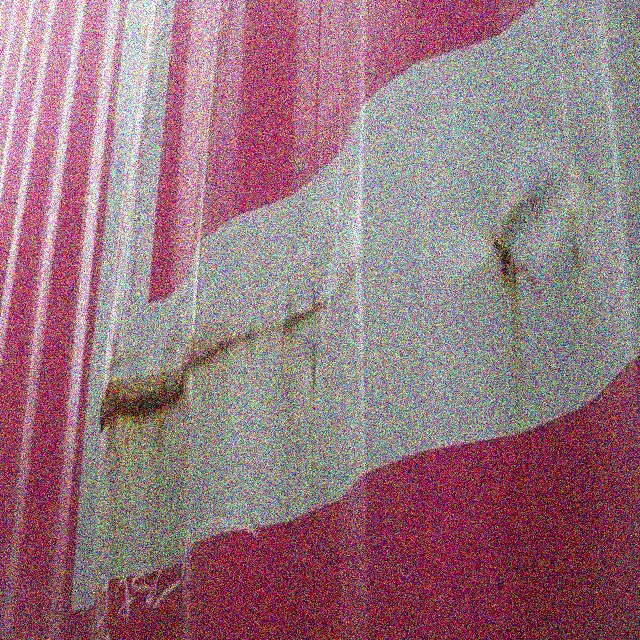Dent: (62, 154, 379, 577), (464, 138, 633, 308)
Rusty: (194, 306, 325, 360), (99, 367, 188, 431)
